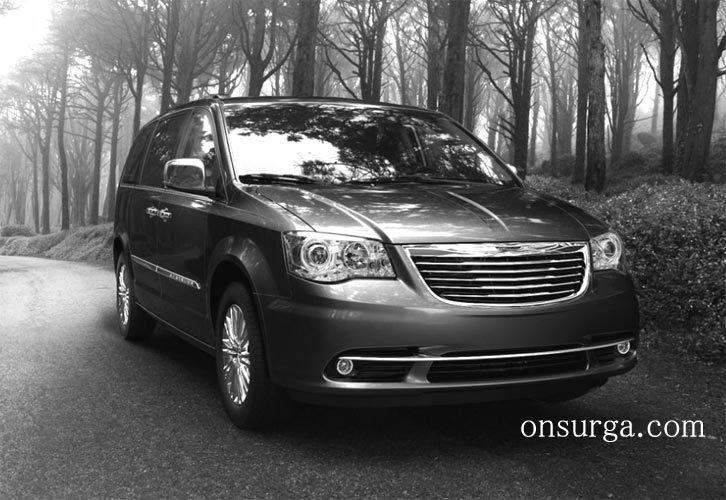car: (111, 92, 645, 435)
